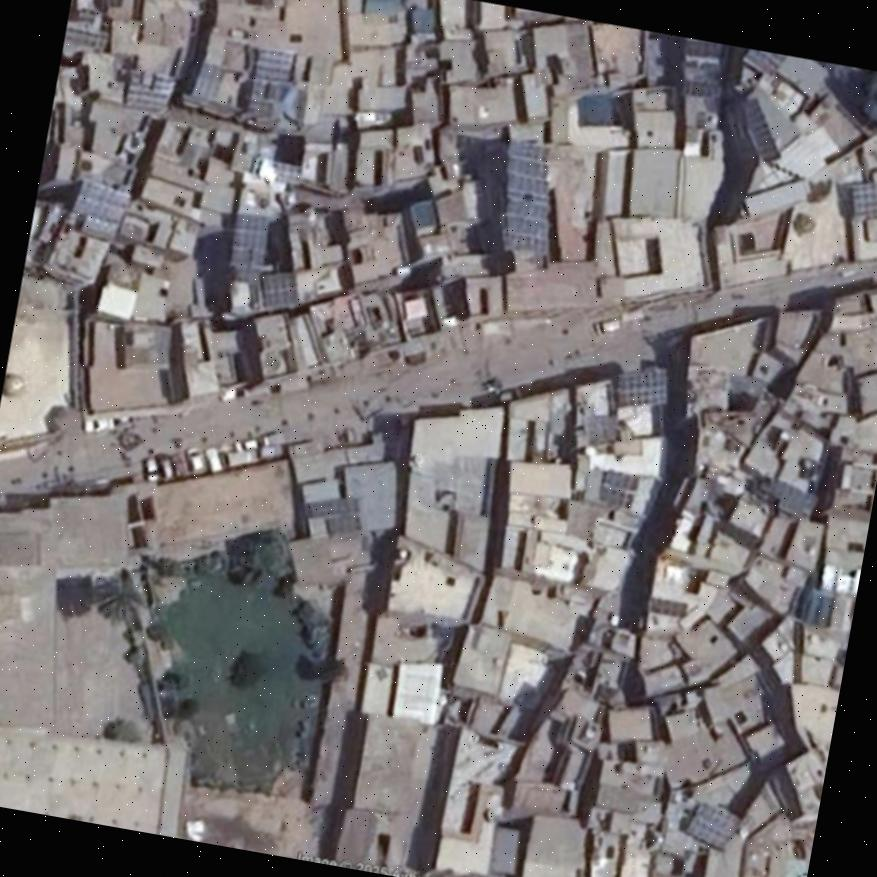Solarpanel: (507, 139, 549, 248), (73, 175, 133, 237), (244, 49, 295, 118), (225, 214, 267, 283), (741, 93, 779, 166), (126, 67, 177, 112), (689, 802, 737, 848), (596, 467, 637, 509), (620, 368, 667, 403), (262, 272, 296, 303), (746, 48, 785, 75), (851, 181, 877, 215), (683, 79, 722, 97), (687, 38, 721, 57)
